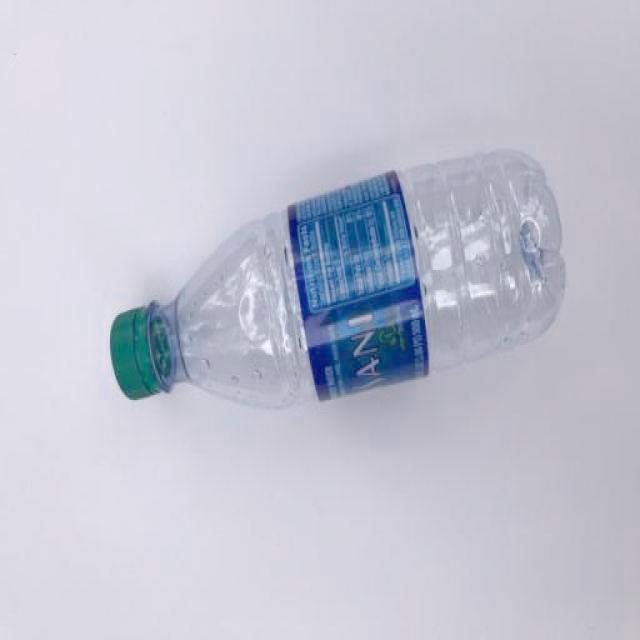bottle: (108, 149, 568, 413)
